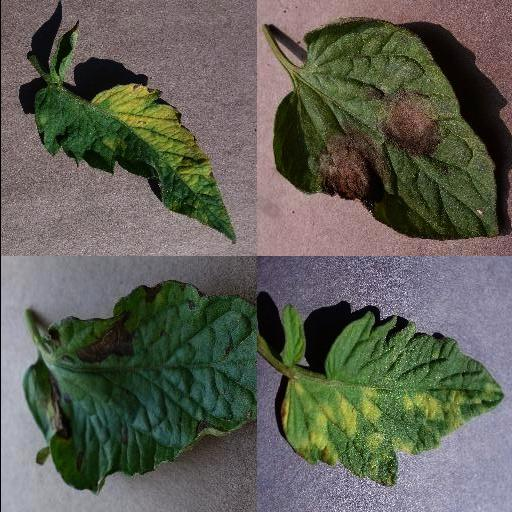Early Blight: (22, 279, 256, 491)
Late Blight: (273, 9, 501, 241)
Leaf Mold: (278, 310, 504, 488), (33, 81, 237, 246)
